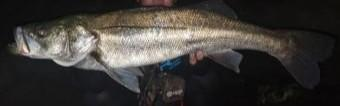fish: (9, 0, 334, 92)
